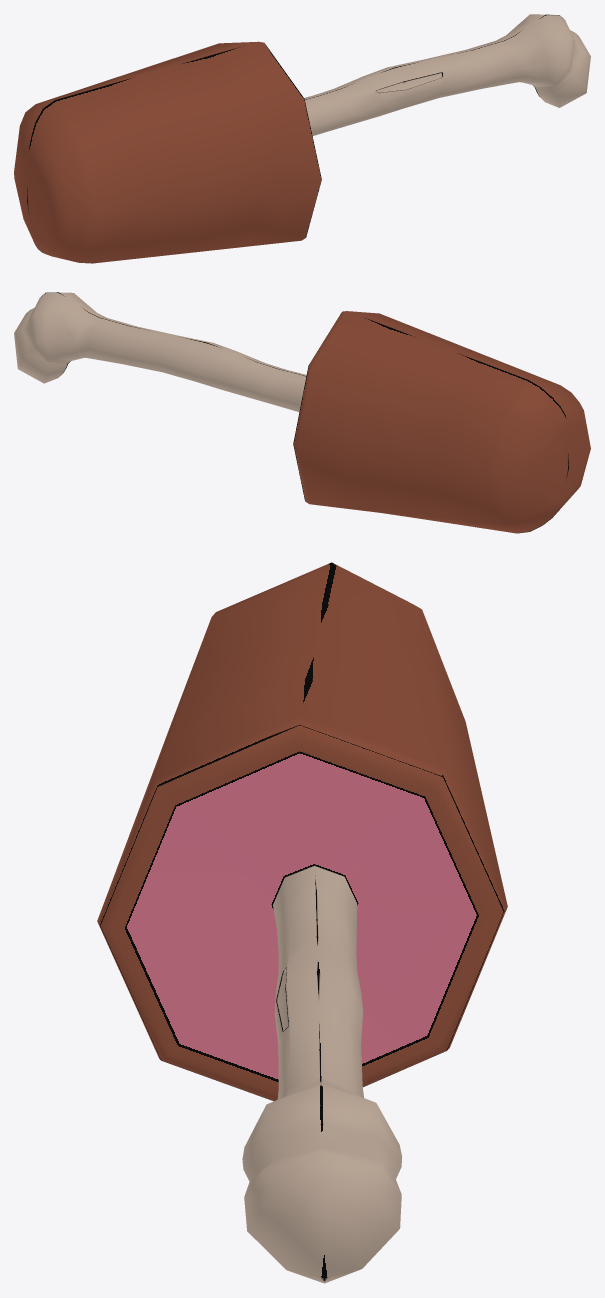
File: Meat.glb
3 views of the same model, one above another, from view 1: azimuth 30°, elevation 25°; view 2: azimuth 150°, elevation 25°; view 3: azimuth 270°, elevation 25° (orthographic). The views are drawn at different scales.
Parts seen in each view (by area): view 1: Meat; view 2: Meat; view 3: Meat.
Part boxes in pixels (<box>): Meat: <box>14,14,590,263</box>; Meat: <box>14,292,590,533</box>; Meat: <box>97,562,507,1283</box>.
Size of the model in its own units: 1 by 0.3422 by 0.3255.
Materials: 1 (1 with a texture image).
